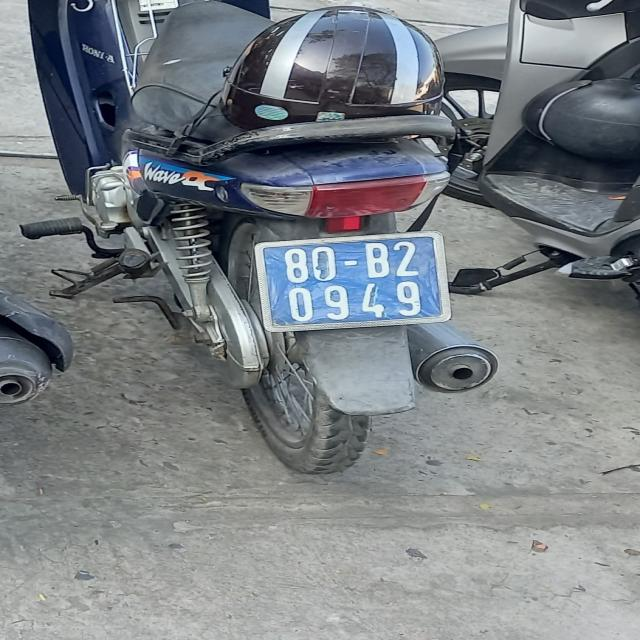0: (311, 245, 338, 282), (289, 286, 313, 324)
2: (392, 239, 418, 276)
4: (362, 283, 386, 319)
8: (284, 247, 308, 283)
9: (324, 285, 357, 319), (395, 281, 425, 316)
B: (362, 241, 391, 280)
